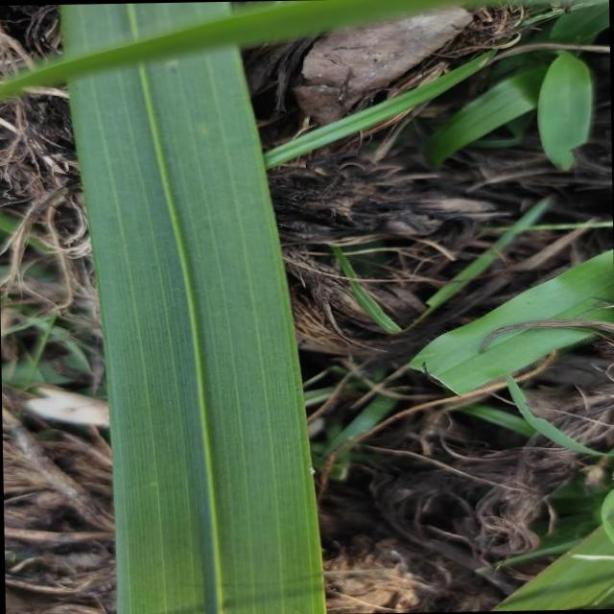Healthy: (60, 0, 324, 614)
